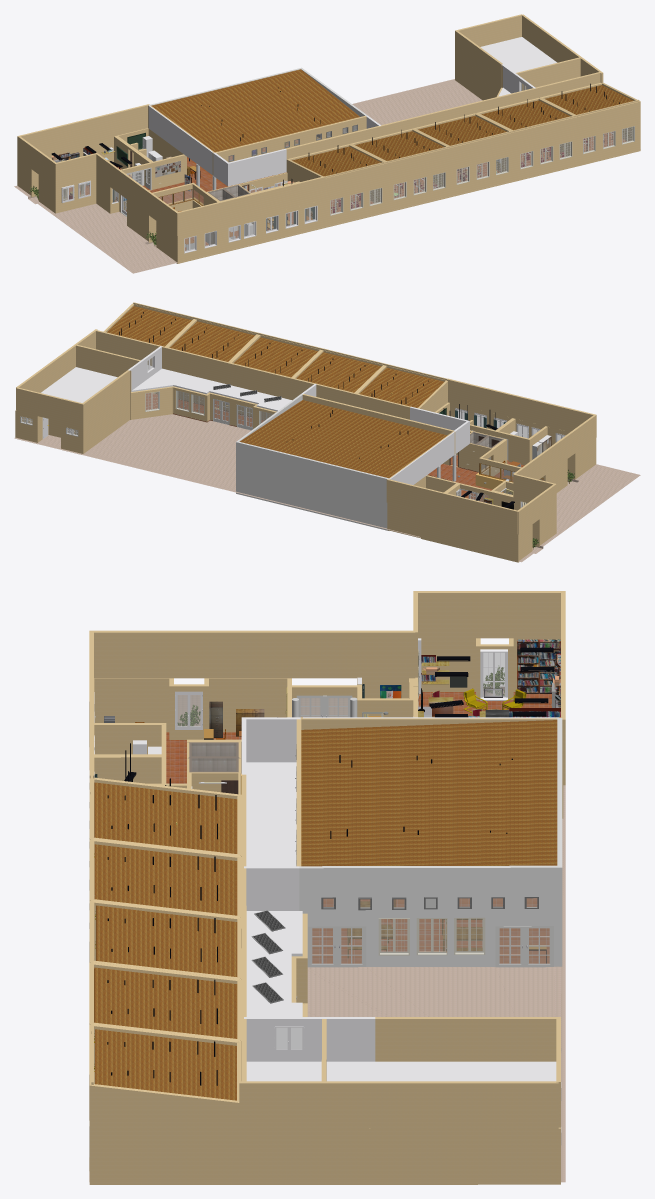
The model's file is escuela.glb.
3 views of the same model, one above another, from view 1: azimuth 30°, elevation 25°; view 2: azimuth 150°, elevation 25°; view 3: azimuth 270°, elevation 25° (orthographic). The views are drawn at different scales.
Visible parts, largest first — view 1: wall_2_4, bottom_2508, wall_132_797, ground_1, wall_2_2, 10_10_1164, wall_12_64, 1199, room_201_1142; view 2: wall_2_4, bottom_2508, wall_132_797, ground_1, wall_2_2, 10_10_1164, wall_12_64, 1199; view 3: wall_2_4, bottom_2508, wall_132_797, wall_2_2, ground_1, 10_10_1164, room_201_1142, 1199, wall_12_64, bottom_1389, top_1384, wall_26_154 (+1 smaller).
Boxes of the visible parts, <box> form: wall_2_4: <box>17,15,640,263</box>; bottom_2508: <box>151,69,633,205</box>; wall_132_797: <box>51,37,634,253</box>; ground_1: <box>14,79,497,273</box>; wall_2_2: <box>17,14,640,213</box>; 10_10_1164: <box>63,83,632,250</box>; wall_12_64: <box>63,132,626,250</box>; 1199: <box>83,83,619,239</box>; room_201_1142: <box>187,134,319,192</box>; wall_2_4: <box>15,303,596,562</box>; bottom_2508: <box>107,306,514,482</box>; wall_132_797: <box>20,346,565,530</box>; ground_1: <box>14,414,640,562</box>; wall_2_2: <box>16,302,596,511</box>; 10_10_1164: <box>22,358,563,505</box>; wall_12_64: <box>146,393,543,501</box>; 1199: <box>119,312,551,481</box>; wall_2_4: <box>89,593,565,1184</box>; bottom_2508: <box>94,720,557,1100</box>; wall_132_797: <box>89,638,562,1156</box>; wall_2_2: <box>89,591,565,1128</box>; ground_1: <box>89,686,565,1182</box>; 10_10_1164: <box>177,652,549,1048</box>; room_201_1142: <box>312,898,549,963</box>; 1199: <box>107,655,560,1085</box>; wall_12_64: <box>166,692,551,783</box>; bottom_1389: <box>517,639,560,699</box>; top_1384: <box>253,710,509,1002</box>; wall_26_154: <box>191,743,236,771</box>.
Size of the model in its own units: 4958 by 482 by 2015.
Materials: 69 (69 with a texture image).
